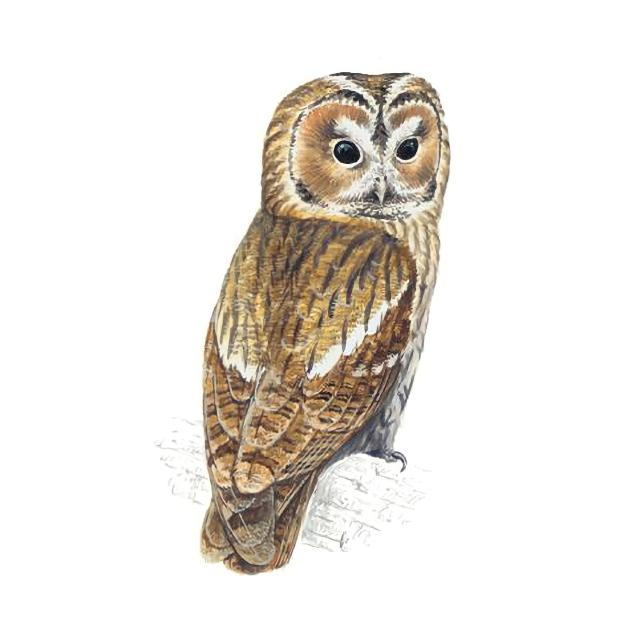Owl: (182, 51, 463, 582)
